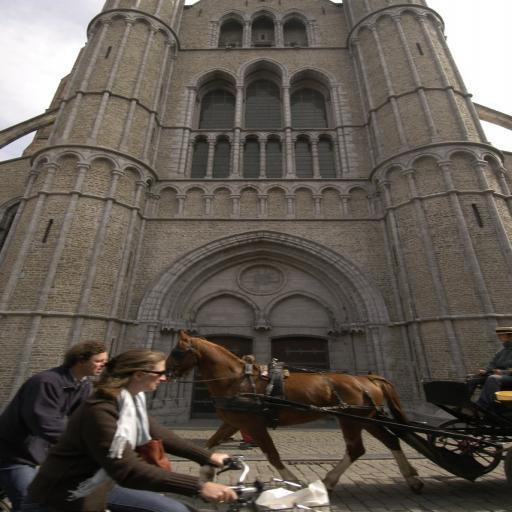horse: (163, 330, 430, 490)
